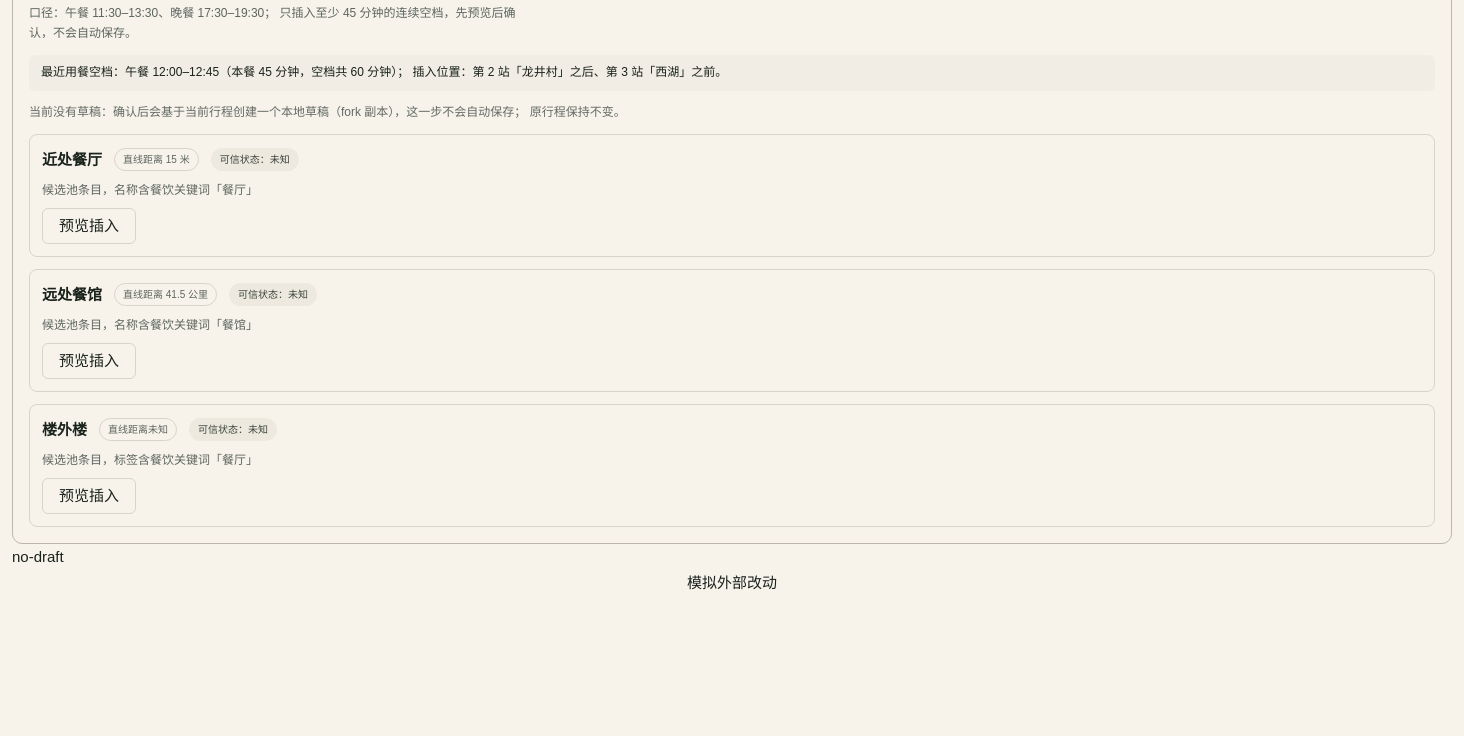
Test: MealSuggestPanel › 展示最近空档与 3 个餐饮候选；预览显示时间、位置与 leg 作废说明
The image size is (1464, 736).
Expected: the text with test id "meal-slot" shows "午餐 12:00–12:45", [29,55,1435,90]
Expected: the text with test id "meal-slot" shows "第 2 站「龙井村」之后", [472,65,715,79]
What coordinates should you click on to do the following:
click the button "预览插入" below "近处餐厅"
I would click on:
 (89, 226)
Its box is [42,208,136,244].
(page scrolled)
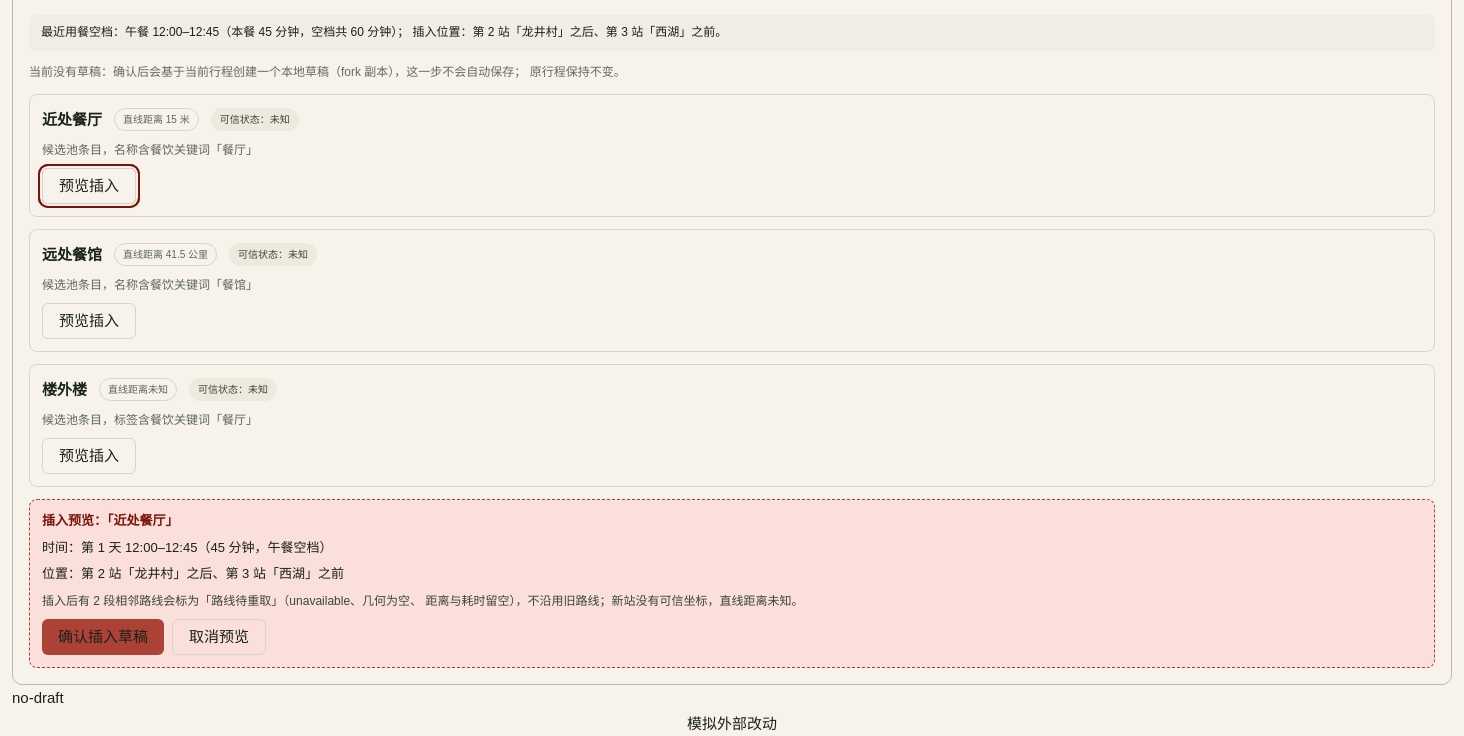
Result: the element with test id "meal-preview" shows "12:00–12:45" at [29,499,1435,668]
Result: the element with test id "meal-preview" shows "第 2 站「龙井村」之后" at [81,566,344,581]
Result: the element with test id "meal-preview" shows "2 段相邻路线" at [29,499,1435,668]
